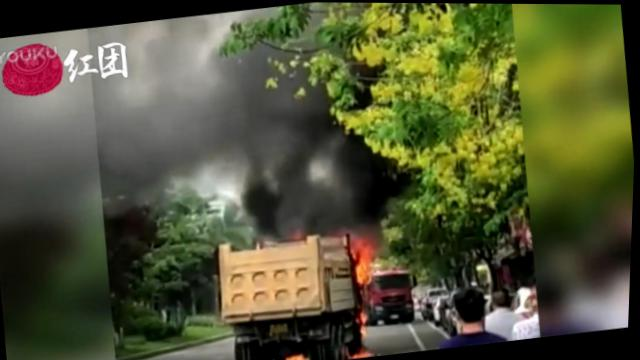fire: (351, 236, 373, 282), (285, 350, 312, 359)
